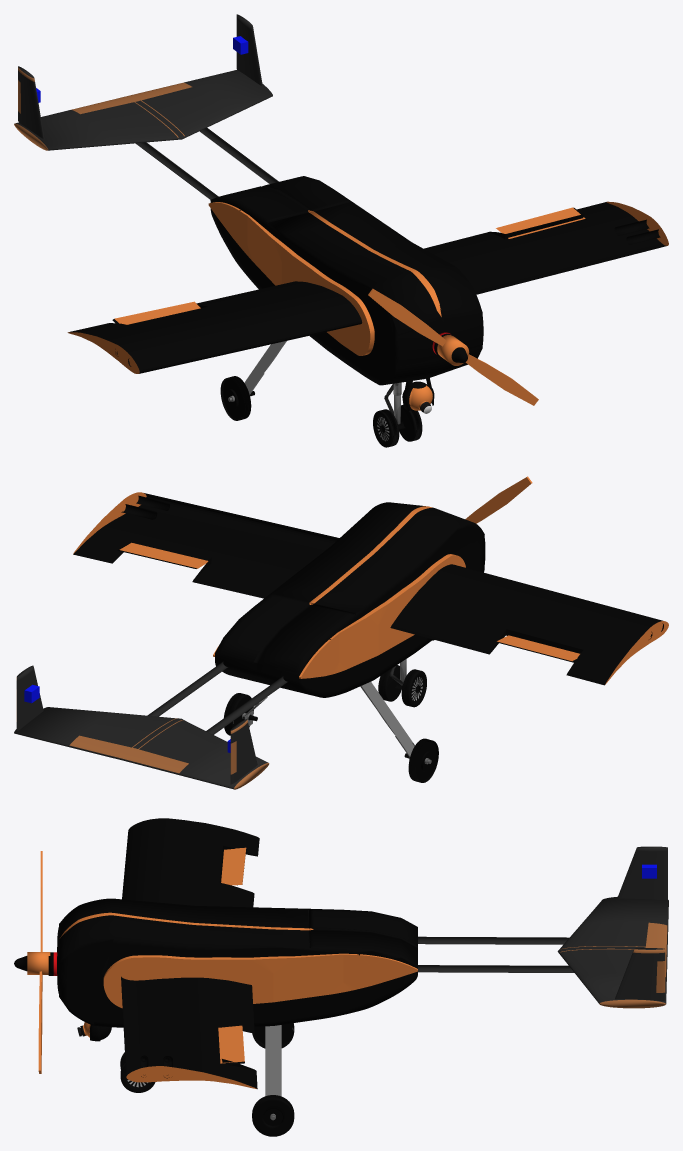
File: UAV_1.gltf
The picture shows the model from 3 angles, top to bottom: view 1: azimuth 30°, elevation 25°; view 2: azimuth 150°, elevation 25°; view 3: azimuth 270°, elevation 25°; orthographic projection. The views are drawn at different scales.
Parts seen in each view (by area): view 1: Cylinder.006, Sphere.001; view 2: Cylinder.006, Sphere.001; view 3: Cylinder.006, Sphere.001.
Part boxes in pixels (x1,y1,x2,y2): Cylinder.006: (14, 14, 668, 447); Sphere.001: (368, 288, 538, 405); Cylinder.006: (14, 492, 668, 789); Sphere.001: (465, 476, 532, 523); Cylinder.006: (48, 818, 668, 1136); Sphere.001: (14, 851, 50, 1073).
Size of the model in its own units: 191 by 72.71 by 210.
